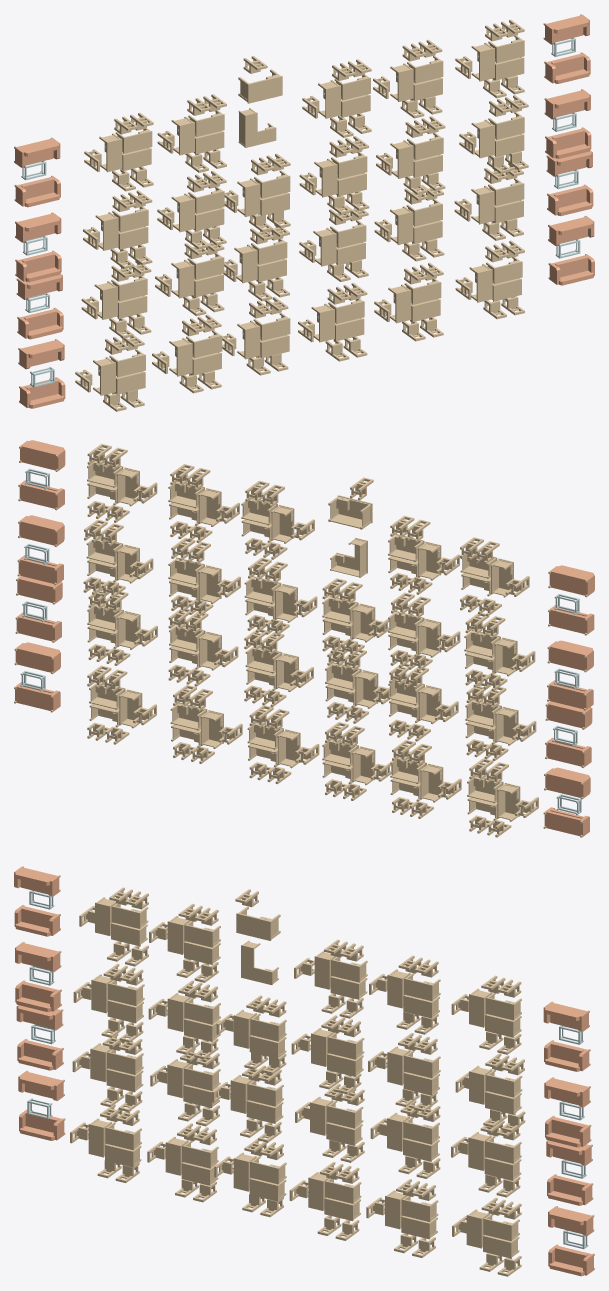
3 renders of one model, top to bottom at view 1: azimuth 30°, elevation 25°; view 2: azimuth 150°, elevation 25°; view 3: azimuth 330°, elevation 25°, orthographic.
Visible parts, largest first — view 1: node_id1360630725, node_id1360630721, node_id1360630789, node_id1360630760, node_id1360630692, node_id1360630663, node_id1360630659, node_id1360630754, node_id1360635117, node_id1360635118, node_id1360630727, node_id1360630657 (+75 smaller); view 2: node_id1360635118, node_id1360630657, node_id1360630727, node_id1360630694, node_id1360630655, node_id1360630762, node_id1360630758, node_id1360635117, node_id1360630754, node_id1360630725, node_id1360630789, node_id1360630791 (+52 smaller); view 3: node_id1360630721, node_id1360630663, node_id1360630789, node_id1360630725, node_id1360630760, node_id1360630659, node_id1360630692, node_id1360630754, node_id1360635118, node_id1360630694, node_id1360630727, node_id1360630758 (+75 smaller).
Part boxes in pixels (left/top/right/bottom): node_id1360630725: left=18, top=308, right=63, bottom=339; node_id1360630721: left=549, top=254, right=594, bottom=285; node_id1360630789: left=16, top=251, right=61, bottom=282; node_id1360630760: left=15, top=176, right=60, bottom=207; node_id1360630692: left=548, top=185, right=593, bottom=215; node_id1360630663: left=546, top=128, right=591, bottom=158; node_id1360630659: left=545, top=53, right=590, bottom=83; node_id1360630754: left=20, top=378, right=65, bottom=408; node_id1360635117: left=238, top=108, right=276, bottom=147; node_id1360635118: left=238, top=69, right=282, bottom=103; node_id1360630727: left=19, top=339, right=64, bottom=369; node_id1360630657: left=545, top=90, right=590, bottom=119; node_id1360635118: left=328, top=495, right=372, bottom=529; node_id1360630657: left=19, top=515, right=64, bottom=545; node_id1360630727: left=545, top=767, right=590, bottom=798; node_id1360630694: left=15, top=642, right=60, bottom=672; node_id1360630655: left=20, top=440, right=65, bottom=470; node_id1360630762: left=549, top=565, right=594, bottom=595; node_id1360630758: left=548, top=640, right=593, bottom=671; node_id1360635117: left=330, top=537, right=367, bottom=577; node_id1360630754: left=544, top=807, right=589, bottom=836; node_id1360630725: left=546, top=737, right=591, bottom=766; node_id1360630789: left=548, top=680, right=593, bottom=709; node_id1360630791: left=546, top=701, right=592, bottom=728; node_id1360630721: left=548, top=1245, right=593, bottom=1276; node_id1360630663: left=545, top=1116, right=590, bottom=1147; node_id1360630789: left=15, top=981, right=60, bottom=1011; node_id1360630725: left=17, top=1039, right=62, bottom=1070; node_id1360630760: left=14, top=905, right=59, bottom=936; node_id1360630659: left=544, top=1041, right=589, bottom=1071; node_id1360630692: left=547, top=1175, right=592, bottom=1205; node_id1360630754: left=19, top=1110, right=64, bottom=1140; node_id1360635118: left=236, top=906, right=280, bottom=940; node_id1360630694: left=548, top=1206, right=593, bottom=1236; node_id1360630727: left=18, top=1071, right=63, bottom=1100; node_id1360630758: left=15, top=942, right=60, bottom=972.
Bounding box in the file's own units: 1.27 × 0.6684 × 0.0676.
